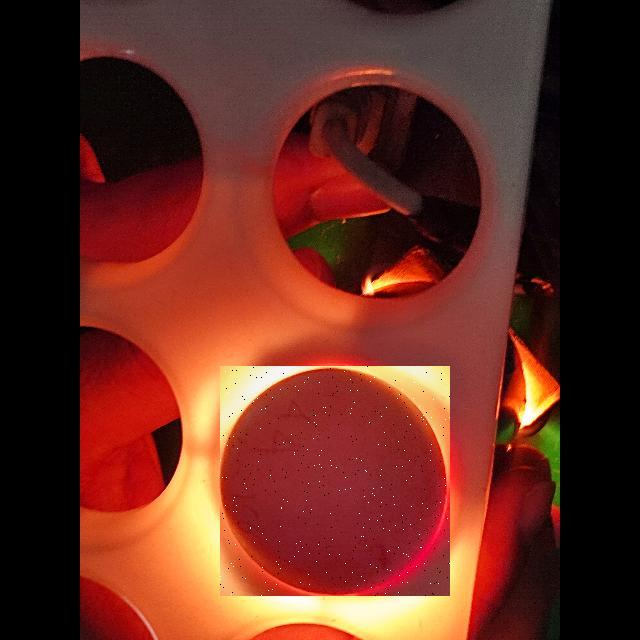Fertile: (220, 366, 450, 596)
